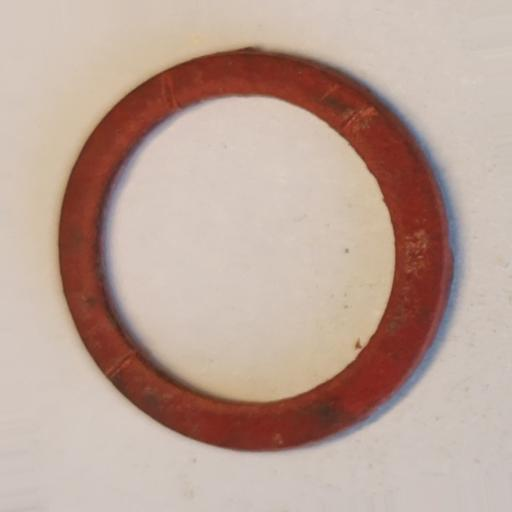defect: (339, 105, 376, 133), (105, 353, 135, 381), (159, 72, 178, 109), (319, 81, 341, 104)
